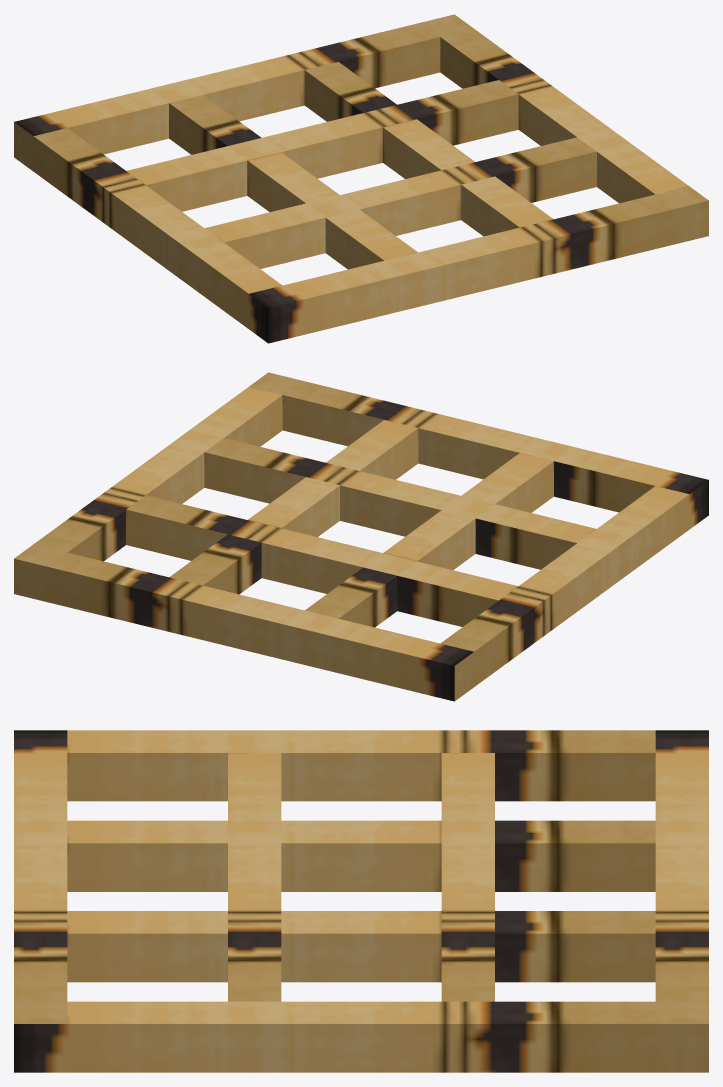
Rendered from station_workbench.obj.
3 renders of one model, top to bottom at view 1: azimuth 30°, elevation 25°; view 2: azimuth 150°, elevation 25°; view 3: azimuth 270°, elevation 25°, orthographic. The views are drawn at different scales.
Visible parts, largest first — view 1: WORKBENCH_MAIN.005; view 2: WORKBENCH_MAIN.005; view 3: WORKBENCH_MAIN.005.
Part boxes in pixels (left/top/right/bottom): WORKBENCH_MAIN.005: left=14, top=14, right=708, bottom=343; WORKBENCH_MAIN.005: left=14, top=372, right=708, bottom=701; WORKBENCH_MAIN.005: left=14, top=730, right=708, bottom=1072.
Size of the model in its own units: 0.8125 by 0.0625 by 0.8125.
